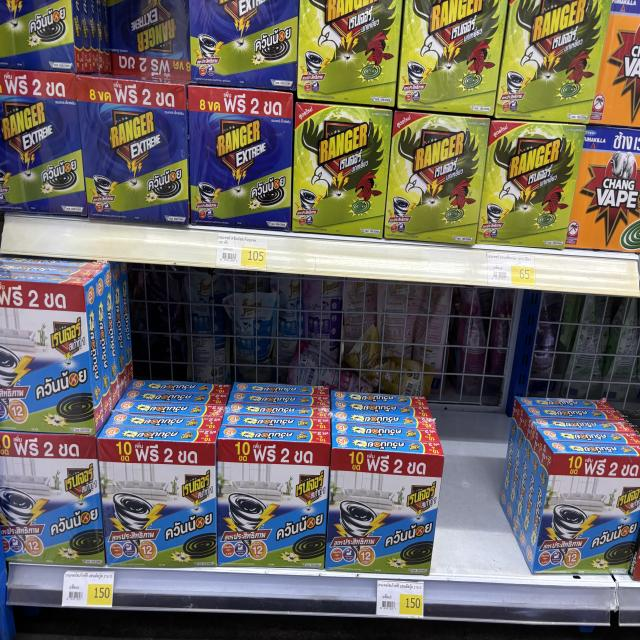empty_shelf: (100, 260, 445, 455), (431, 287, 542, 577), (545, 291, 640, 454)
